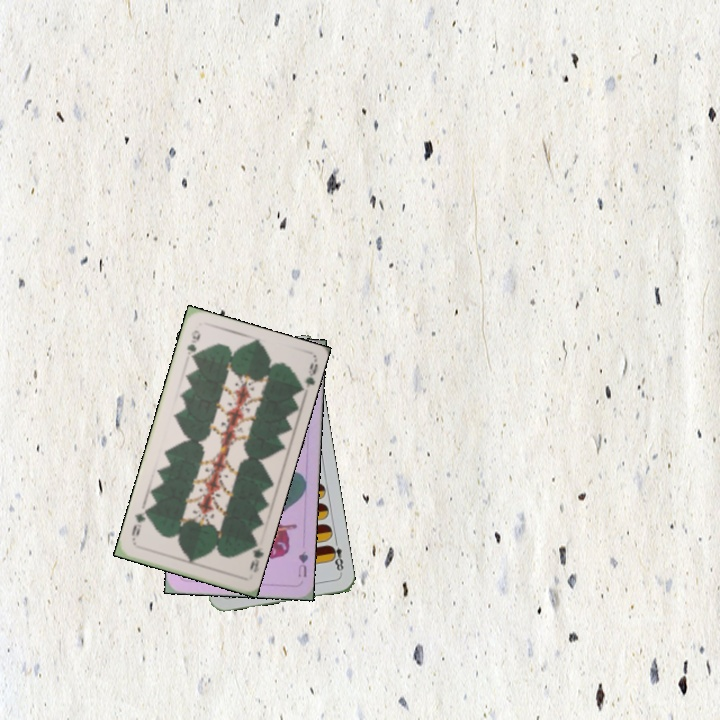E8: (325, 536, 346, 576)
G9: (245, 538, 265, 575), (183, 326, 203, 362)
GU: (294, 547, 310, 580)
